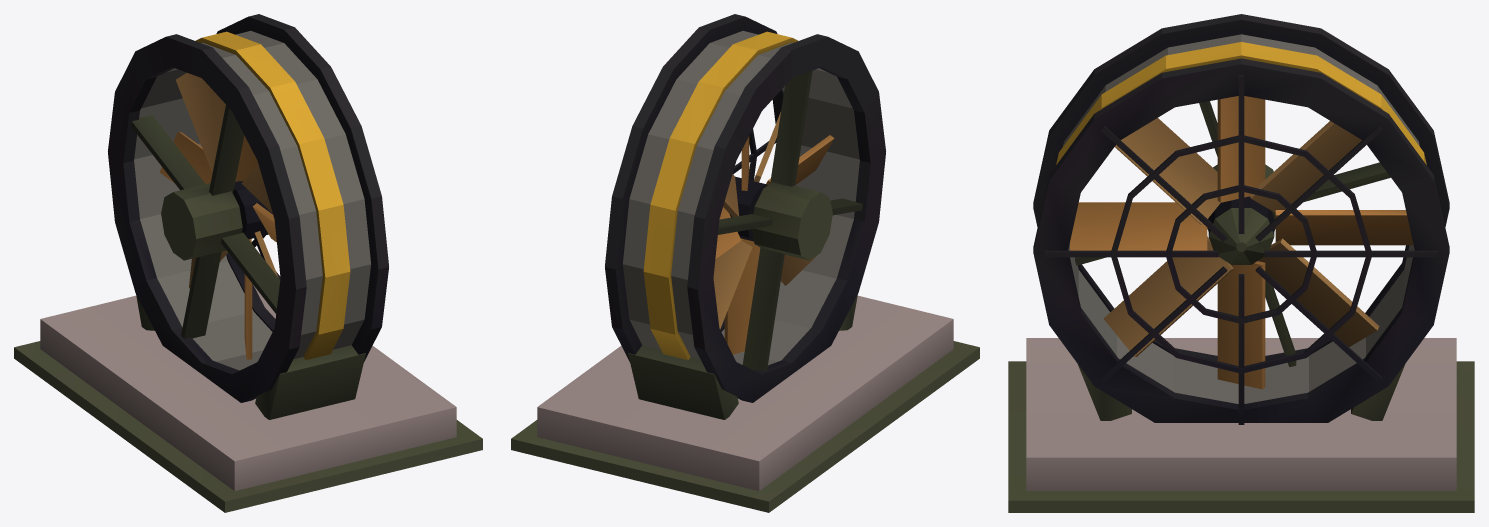
Rendered from kit.dispersal-fan-housing.lod1.glb.
3 views of the same model, side by side, from view 1: azimuth 30°, elevation 25°; view 2: azimuth 150°, elevation 25°; view 3: azimuth 270°, elevation 25° (orthographic). The views are drawn at different scales.
Visible parts, largest first — view 1: body, fanRotor; view 2: body, fanRotor; view 3: body, fanRotor.
Boxes of the visible parts, <box> form: body: <box>14,14,482,512</box>; fanRotor: <box>159,73,278,359</box>; body: <box>511,14,979,512</box>; fanRotor: <box>713,111,834,354</box>; body: <box>1008,14,1474,512</box>; fanRotor: <box>1070,96,1412,389</box>.
Size of the model in its own units: 7.2 by 9.75 by 10.2.
